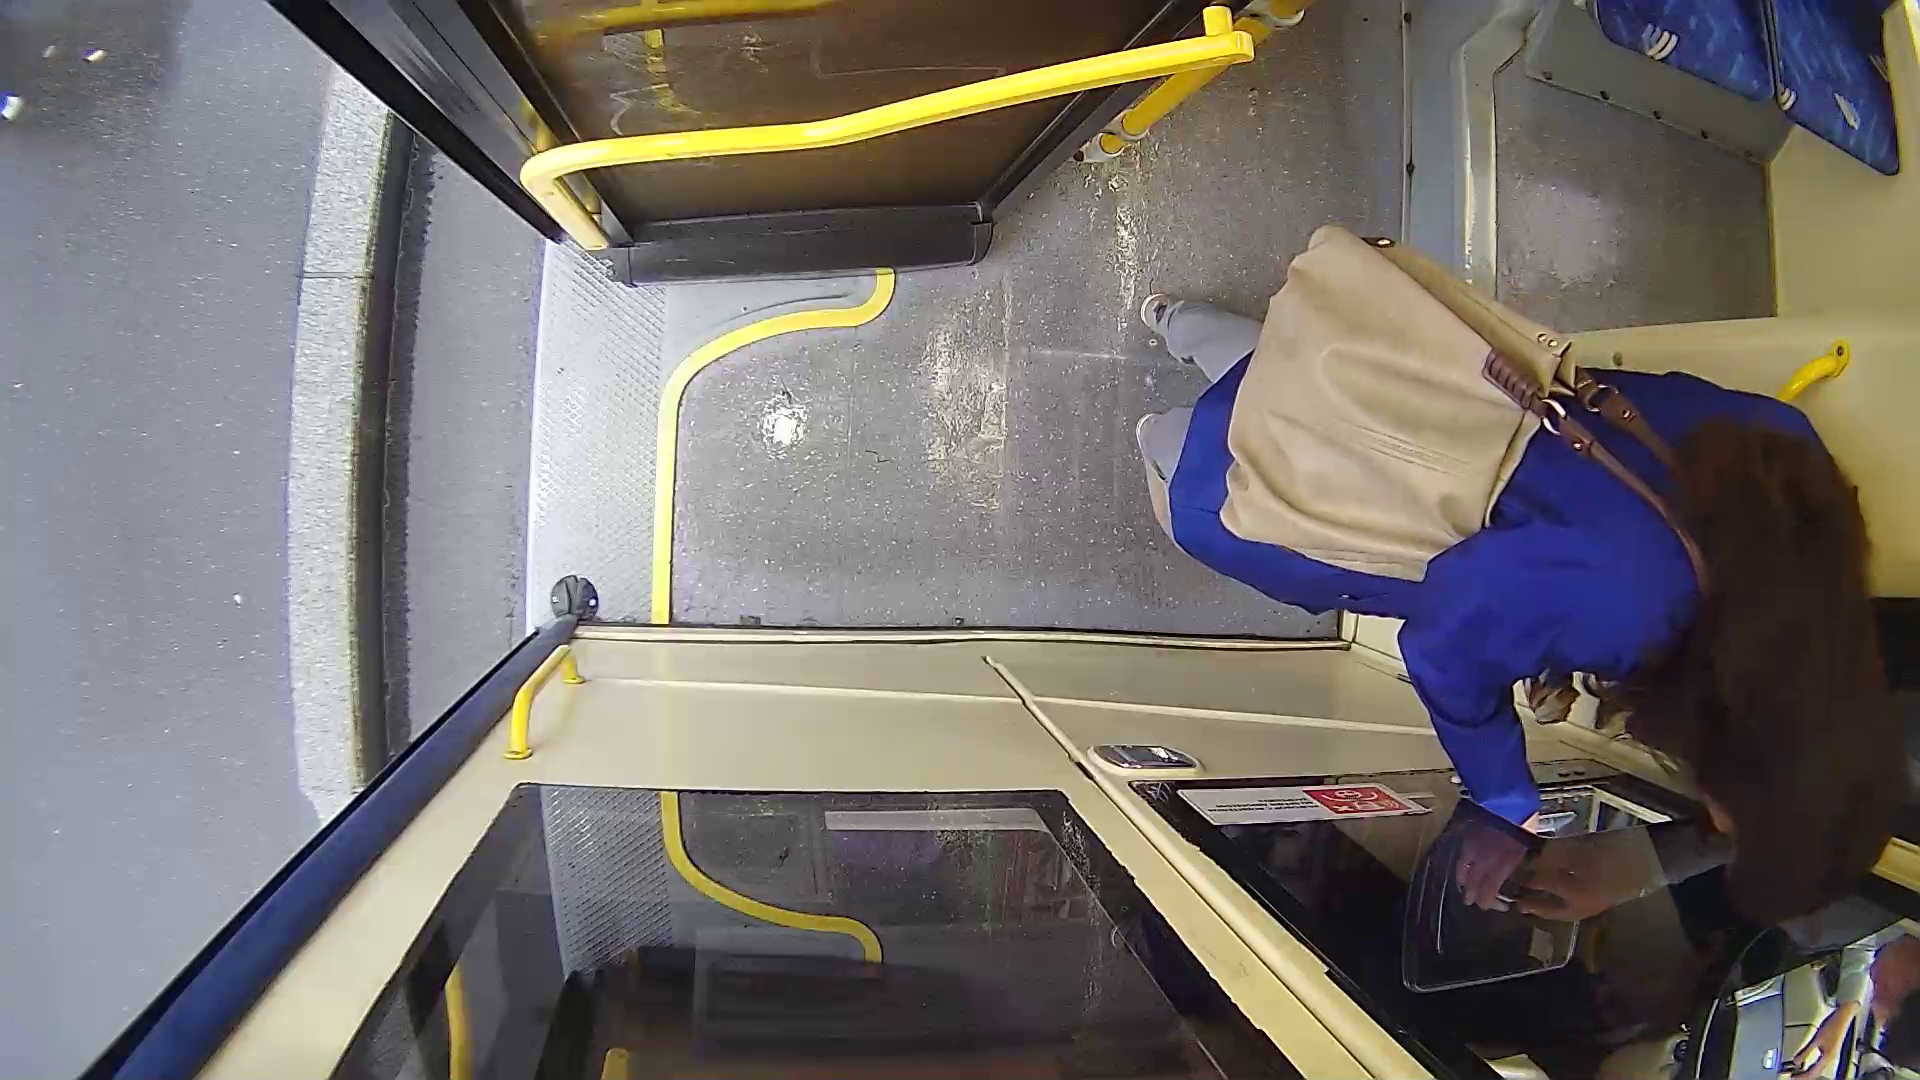person: (1034, 236, 1907, 878)
